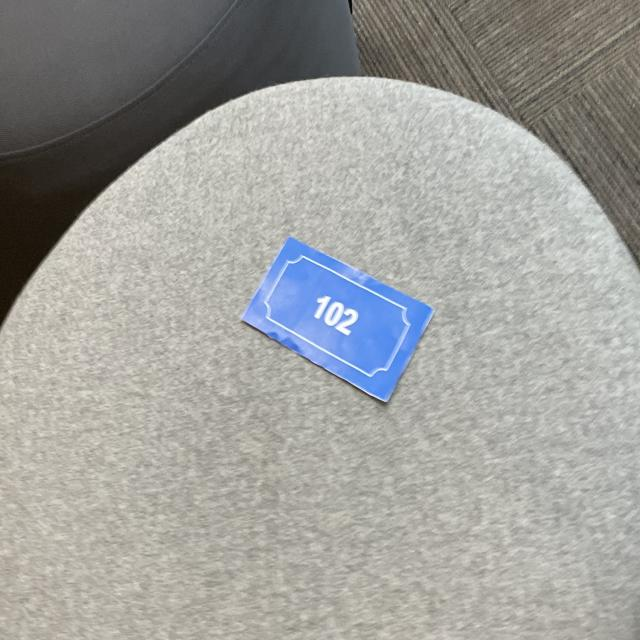Card: (231, 227, 449, 423)
